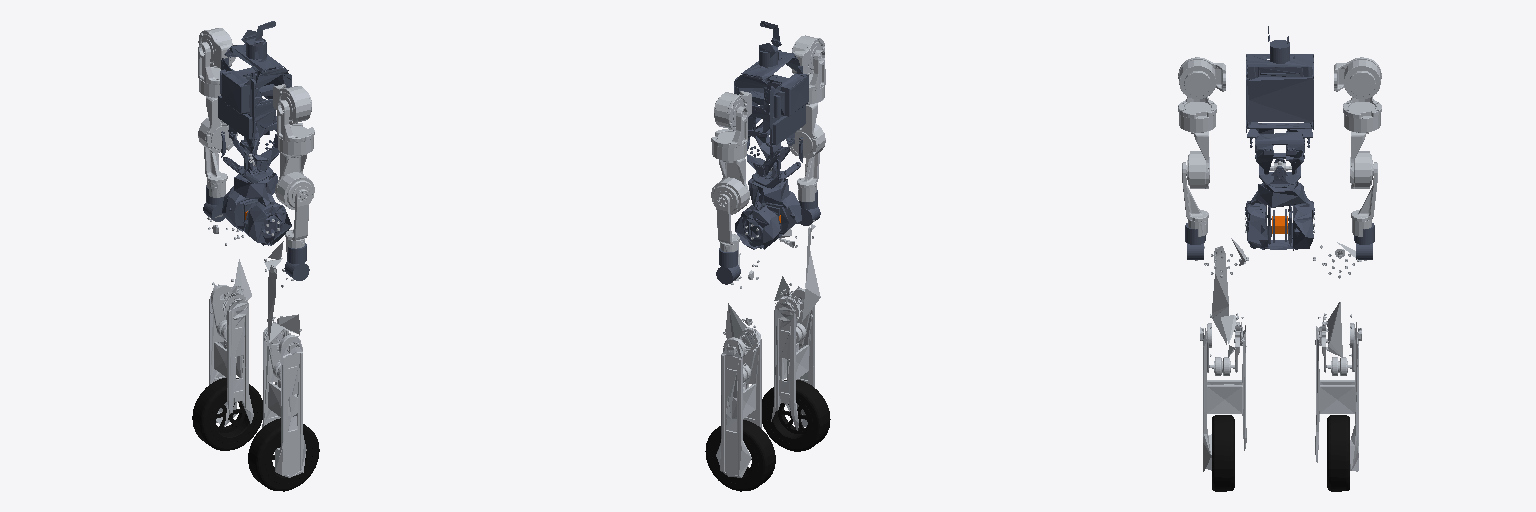
The robot description file, URDF, robot "wheel_humanoid":
<?xml version='1.0' encoding='utf-8'?>
<robot name="wheel_humanoid">
  <!-- GENERATED by tools/build_urdf.py from urdf/wheel_humanoid_structural.urdf + config/q1_wheel_components.yaml. Do not edit by hand.
     Q1 Wheel / BI2 Wheel: 40.00 kg, 24 CubeMars joints (AKE90-8 hip/knee, AK10-9 torso/shoulder/elbow/wheel, AK45-36 neck, AK45-10 wrist/gripper),
     Xsens MTi-630 on pelvis at hip-axis height, wheel radius 0.1 m, CAN 200 Hz. Joint friction/damping = 0: modelled in the Isaac Lab actuator. -->
  <material name="grey">
    <color rgba="0.75 0.77 0.80 1" />
  </material>
  <material name="dark">
    <color rgba="0.35 0.38 0.45 1" />
  </material>
  <material name="rubber">
    <color rgba="0.12 0.12 0.12 1" />
  </material>
  <material name="imu_orange">
    <color rgba="0.95 0.45 0.05 1" />
  </material>
  <link name="pelvis">
    <inertial>
      <origin xyz="6.602201e-06 1.009828e-05 -0.095563" rpy="0 0 0" />
      <mass value="5.2777" />
      <inertia ixx="0.042568" ixy="-3.336868e-06" ixz="4.443570e-06" iyy="0.021732" iyz="-2.369537e-06" izz="0.028592" />
    </inertial>
    <visual>
      <origin xyz="0 0 0" rpy="0 0 0" />
      <geometry>
        <mesh filename="../meshes/web/hip.stl" scale="1 1 1" />
      </geometry>
      <material name="dark" />
    </visual>
  </link>
  <link name="waist_yaw_link">
    <inertial>
      <origin xyz="-0.002411 1.391409e-08 0.035844" rpy="0 0 0" />
      <mass value="1.0432" />
      <inertia ixx="0.001286" ixy="4.513354e-10" ixz="-1.652677e-05" iyy="0.001102" iyz="3.781693e-10" izz="0.001132" />
    </inertial>
    <visual>
      <origin xyz="0 0 0" rpy="0 0 0" />
      <geometry>
        <mesh filename="../meshes/web/waist_yaw.stl" scale="1 1 1" />
      </geometry>
      <material name="dark" />
    </visual>
  </link>
  <link name="waist_roll_link">
    <inertial>
      <origin xyz="-3.947088e-10 -2.747308e-10 8.034476e-07" rpy="0 0 0" />
      <mass value="0.9665" />
      <inertia ixx="8.684762e-04" ixy="7.488862e-14" ixz="-2.299664e-13" iyy="0.001132" iyz="2.670902e-12" izz="8.702798e-04" />
    </inertial>
    <visual>
      <origin xyz="0 0 0" rpy="0 0 0" />
      <geometry>
        <mesh filename="../meshes/web/waist_pitch.stl" scale="1 1 1" />
      </geometry>
      <material name="grey" />
    </visual>
  </link>
  <link name="torso">
    <inertial>
      <origin xyz="-0.004774 -4.027808e-04 0.218873" rpy="0 0 0" />
      <mass value="7.0335" />
      <inertia ixx="0.094891" ixy="-1.953431e-04" ixz="-7.687369e-04" iyy="0.047838" iyz="4.550266e-05" izz="0.061561" />
    </inertial>
    <visual>
      <origin xyz="0 0 0" rpy="0 0 0" />
      <geometry>
        <mesh filename="../meshes/web/waist_should_head.stl" scale="1 1 1" />
      </geometry>
      <material name="dark" />
    </visual>
  </link>
  <link name="l_shoulder_pitch_link">
    <inertial>
      <origin xyz="-0.021587 0.073246 3.123557e-09" rpy="0 0 0" />
      <mass value="1.3483" />
      <inertia ixx="0.001717" ixy="2.023139e-05" ixz="-1.053258e-09" iyy="0.001426" iyz="1.382733e-08" izz="0.001562" />
    </inertial>
    <visual>
      <origin xyz="0 0 0" rpy="0 0 0" />
      <geometry>
        <mesh filename="../meshes/web/arm_l_link_1.stl" scale="1 1 1" />
      </geometry>
      <material name="grey" />
    </visual>
  </link>
  <link name="l_shoulder_roll_link">
    <inertial>
      <origin xyz="0.028948 -4.881052e-05 -0.129142" rpy="0 0 0" />
      <mass value="1.3666" />
      <inertia ixx="0.001897" ixy="2.651940e-06" ixz="1.419497e-04" iyy="0.001929" iyz="2.953447e-06" izz="0.001641" />
    </inertial>
    <visual>
      <origin xyz="0 0 0" rpy="0 0 0" />
      <geometry>
        <mesh filename="../meshes/web/arm_l_link_2.stl" scale="1 1 1" />
      </geometry>
      <material name="grey" />
    </visual>
  </link>
  <link name="l_shoulder_yaw_link">
    <inertial>
      <origin xyz="-2.931040e-06 0.018437 -0.114686" rpy="0 0 0" />
      <mass value="1.3939" />
      <inertia ixx="0.002235" ixy="-1.834554e-07" ixz="1.367861e-07" iyy="0.002242" iyz="2.603874e-04" izz="0.001619" />
    </inertial>
    <visual>
      <origin xyz="0 0 0" rpy="0 0 0" />
      <geometry>
        <mesh filename="../meshes/web/arm_l_link_3.stl" scale="1 1 1" />
      </geometry>
      <material name="grey" />
    </visual>
  </link>
  <link name="l_elbow_link">
    <inertial>
      <origin xyz="-5.573086e-06 -0.022445 -0.158066" rpy="0 0 0" />
      <mass value="0.4363" />
      <inertia ixx="9.758466e-04" ixy="8.432305e-09" ixz="-7.421732e-09" iyy="9.441553e-04" iyz="-1.402907e-04" izz="1.759022e-04" />
    </inertial>
    <visual>
      <origin xyz="0 0 0" rpy="0 0 0" />
      <geometry>
        <mesh filename="../meshes/web/arm_l_link_4.stl" scale="1 1 1" />
      </geometry>
      <material name="grey" />
    </visual>
  </link>
  <link name="r_shoulder_pitch_link">
    <inertial>
      <origin xyz="-0.021588 -0.073245 -1.171754e-06" rpy="0 0 0" />
      <mass value="1.3482" />
      <inertia ixx="0.001717" ixy="-2.023341e-05" ixz="-1.895726e-09" iyy="0.001426" iyz="-9.283294e-09" izz="0.001562" />
    </inertial>
    <visual>
      <origin xyz="0 0 0" rpy="0 0 0" />
      <geometry>
        <mesh filename="../meshes/web/arm_r_link_1.stl" scale="1 1 1" />
      </geometry>
      <material name="grey" />
    </visual>
  </link>
  <link name="r_shoulder_roll_link">
    <inertial>
      <origin xyz="0.028948 -4.881052e-05 -0.129142" rpy="0 0 0" />
      <mass value="1.3666" />
      <inertia ixx="0.001897" ixy="2.651940e-06" ixz="1.419497e-04" iyy="0.001929" iyz="2.953447e-06" izz="0.001641" />
    </inertial>
    <visual>
      <origin xyz="0 0 0" rpy="0 0 0" />
      <geometry>
        <mesh filename="../meshes/web/arm_r_link_2.stl" scale="1 1 1" />
      </geometry>
      <material name="grey" />
    </visual>
  </link>
  <link name="r_shoulder_yaw_link">
    <inertial>
      <origin xyz="2.931040e-06 -0.018437 -0.114686" rpy="0 0 0" />
      <mass value="1.3939" />
      <inertia ixx="0.002235" ixy="-1.834554e-07" ixz="-1.367861e-07" iyy="0.002242" iyz="-2.603874e-04" izz="0.001619" />
    </inertial>
    <visual>
      <origin xyz="0 0 0" rpy="0 0 0" />
      <geometry>
        <mesh filename="../meshes/web/arm_r_link_3.stl" scale="1 1 1" />
      </geometry>
      <material name="grey" />
    </visual>
  </link>
  <link name="r_elbow_link">
    <inertial>
      <origin xyz="5.573086e-06 0.022445 -0.158066" rpy="0 0 0" />
      <mass value="0.4363" />
      <inertia ixx="9.758466e-04" ixy="8.432305e-09" ixz="7.421732e-09" iyy="9.441553e-04" iyz="1.402907e-04" izz="1.759022e-04" />
    </inertial>
    <visual>
      <origin xyz="0 0 0" rpy="0 0 0" />
      <geometry>
        <mesh filename="../meshes/web/arm_r_link_4.stl" scale="1 1 1" />
      </geometry>
      <material name="grey" />
    </visual>
  </link>
  <link name="l_hip_pitch_link">
    <inertial>
      <origin xyz="0.019431 0.071955 -0.096192" rpy="0 0 0" />
      <mass value="1.9503" />
      <inertia ixx="0.003490" ixy="-4.210136e-05" ixz="5.661860e-05" iyy="0.002517" iyz="1.947852e-04" izz="0.002314" />
    </inertial>
    <visual>
      <origin xyz="0 0 0" rpy="0 0 0" />
      <geometry>
        <mesh filename="../meshes/web/urdf_thigh_joint_l.stl" scale="1 1 1" />
      </geometry>
      <material name="grey" />
    </visual>
  </link>
  <link name="l_thigh_link">
    <inertial>
      <origin xyz="-0.026418 -0.019593 -0.204474" rpy="0 0 0" />
      <mass value="2.2513" />
      <inertia ixx="0.007567" ixy="-4.265401e-05" ixz="-9.042540e-05" iyy="0.008692" iyz="-7.039186e-04" izz="0.002947" />
    </inertial>
    <visual>
      <origin xyz="0 0 0" rpy="0 0 0" />
      <geometry>
        <mesh filename="../meshes/web/urdf_thigh_knee_l.stl" scale="1 1 1" />
      </geometry>
      <material name="grey" />
    </visual>
  </link>
  <link name="l_shin_link">
    <inertial>
      <origin xyz="2.401575e-05 0.022555 -0.294121" rpy="0 0 0" />
      <mass value="2.0045" />
      <inertia ixx="0.022326" ixy="8.724134e-08" ixz="-5.242499e-06" iyy="0.021386" iyz="6.114595e-04" izz="0.003135" />
    </inertial>
    <visual>
      <origin xyz="0 0 0" rpy="0 0 0" />
      <geometry>
        <mesh filename="../meshes/web/lower_leg_l_w_link_1_1.stl" scale="1 1 1" />
      </geometry>
      <material name="grey" />
    </visual>
  </link>
  <link name="l_wheel_link">
    <inertial>
      <origin xyz="-1.062750e-07 0.001429 -2.961080e-18" rpy="0 0 0" />
      <mass value="1.2439" />
      <inertia ixx="0.004217" ixy="2.076277e-10" ixz="-5.007686e-09" iyy="0.007734" iyz="-7.060086e-12" izz="0.004204" />
    </inertial>
    <visual>
      <origin xyz="0 0 0" rpy="0 0 0" />
      <geometry>
        <mesh filename="../meshes/web/lower_leg_l_w_link_2.stl" scale="1 1 1" />
      </geometry>
      <material name="rubber" />
    </visual>
  </link>
  <link name="r_hip_pitch_link">
    <inertial>
      <origin xyz="0.019511 -0.067117 -0.096268" rpy="0 0 0" />
      <mass value="1.9460" />
      <inertia ixx="0.003454" ixy="3.269409e-05" ixz="5.403229e-05" iyy="0.002491" iyz="-1.743071e-04" izz="0.002287" />
    </inertial>
    <visual>
      <origin xyz="0 0 0" rpy="0 0 0" />
      <geometry>
        <mesh filename="../meshes/web/urdf_thigh_joint_r.stl" scale="1 1 1" />
      </geometry>
      <material name="grey" />
    </visual>
  </link>
  <link name="r_thigh_link">
    <inertial>
      <origin xyz="-0.026454 0.019494 -0.204462" rpy="0 0 0" />
      <mass value="2.2562" />
      <inertia ixx="0.007567" ixy="3.387573e-05" ixz="-9.175773e-05" iyy="0.008703" iyz="7.087533e-04" izz="0.002976" />
    </inertial>
    <visual>
      <origin xyz="0 0 0" rpy="0 0 0" />
      <geometry>
        <mesh filename="../meshes/web/urdf_thigh_knee_r.stl" scale="1 1 1" />
      </geometry>
      <material name="grey" />
    </visual>
  </link>
  <link name="r_shin_link">
    <inertial>
      <origin xyz="-2.401575e-05 -0.022555 -0.294121" rpy="0 0 0" />
      <mass value="2.0045" />
      <inertia ixx="0.022326" ixy="8.724134e-08" ixz="5.242499e-06" iyy="0.021386" iyz="-6.114595e-04" izz="0.003135" />
    </inertial>
    <visual>
      <origin xyz="0 0 0" rpy="0 0 0" />
      <geometry>
        <mesh filename="../meshes/web/lower_leg_r_w_link_1_1.stl" scale="1 1 1" />
      </geometry>
      <material name="grey" />
    </visual>
  </link>
  <link name="r_wheel_link">
    <inertial>
      <origin xyz="1.062750e-07 -0.001429 -2.961080e-18" rpy="0 0 0" />
      <mass value="1.2439" />
      <inertia ixx="0.004217" ixy="2.076277e-10" ixz="5.007686e-09" iyy="0.007734" iyz="7.060086e-12" izz="0.004204" />
    </inertial>
    <visual>
      <origin xyz="0 0 0" rpy="0 0 0" />
      <geometry>
        <mesh filename="../meshes/web/lower_leg_r_w_link_2.stl" scale="1 1 1" />
      </geometry>
      <material name="rubber" />
    </visual>
  </link>
  <link name="l_knee_roller_link">
    <inertial>
      <origin xyz="-6.112440e-05 0.047586 -0.052859" rpy="0 0 0" />
      <mass value="0.1597" />
      <inertia ixx="4.277488e-04" ixy="1.898842e-07" ixz="4.001363e-08" iyy="3.302339e-04" iyz="-1.710638e-05" izz="1.691798e-04" />
    </inertial>
    <visual>
      <origin xyz="0 0 0" rpy="0 0 0" />
      <geometry>
        <mesh filename="../meshes/web/lower_leg_l_w_link_1_2.stl" scale="1 1 1" />
      </geometry>
      <material name="grey" />
    </visual>
  </link>
  <link name="r_knee_roller_link">
    <inertial>
      <origin xyz="6.112440e-05 -0.047586 -0.052859" rpy="0 0 0" />
      <mass value="0.1597" />
      <inertia ixx="4.277488e-04" ixy="1.898842e-07" ixz="-4.001363e-08" iyy="3.302339e-04" iyz="1.710638e-05" izz="1.691798e-04" />
    </inertial>
    <visual>
      <origin xyz="0 0 0" rpy="0 0 0" />
      <geometry>
        <mesh filename="../meshes/web/lower_leg_r_w_link_1_2.stl" scale="1 1 1" />
      </geometry>
      <material name="grey" />
    </visual>
  </link>
  <joint name="waist_yaw_joint" type="revolute">
    <parent link="pelvis" />
    <child link="waist_yaw_link" />
    <origin xyz="0 0 0" rpy="0 0 0" />
    <axis xyz="0 0 1" />
    <limit lower="-1.57" upper="1.57" effort="43.0" velocity="33.51" />
    <dynamics damping="0.0" friction="0.0" />
  </joint>
  <joint name="waist_roll_joint" type="revolute">
    <parent link="waist_yaw_link" />
    <child link="waist_roll_link" />
    <origin xyz="0 0 0.0378" rpy="0 0 0" />
    <axis xyz="1 0 0" />
    <limit lower="-0.35" upper="0.35" effort="43.0" velocity="33.51" />
    <dynamics damping="0.0" friction="0.0" />
  </joint>
  <joint name="waist_pitch_joint" type="revolute">
    <parent link="waist_roll_link" />
    <child link="torso" />
    <origin xyz="0 0 0" rpy="0 0 0" />
    <axis xyz="0 1 0" />
    <limit lower="-0.52" upper="0.52" effort="43.0" velocity="33.51" />
    <dynamics damping="0.0" friction="0.0" />
  </joint>
  <joint name="l_shoulder_pitch_joint" type="revolute">
    <parent link="torso" />
    <child link="l_shoulder_pitch_link" />
    <origin xyz="0 0.1405 0.256" rpy="0 0 0" />
    <axis xyz="0 1 0" />
    <limit lower="-3.14" upper="3.14" effort="43.0" velocity="33.51" />
    <dynamics damping="0.0" friction="0.0" />
  </joint>
  <joint name="l_shoulder_roll_joint" type="revolute">
    <parent link="l_shoulder_pitch_link" />
    <child link="l_shoulder_roll_link" />
    <origin xyz="-0.03019 0.075 0" rpy="0 0 0" />
    <axis xyz="1 0 0" />
    <limit lower="-0.2" upper="2.6" effort="43.0" velocity="33.51" />
    <dynamics damping="0.0" friction="0.0" />
  </joint>
  <joint name="l_shoulder_yaw_joint" type="revolute">
    <parent link="l_shoulder_roll_link" />
    <child link="l_shoulder_yaw_link" />
    <origin xyz="0.03012 0 -0.1417" rpy="0 0 0" />
    <axis xyz="0 0 1" />
    <limit lower="-1.57" upper="1.57" effort="43.0" velocity="33.51" />
    <dynamics damping="0.0" friction="0.0" />
  </joint>
  <joint name="l_elbow_joint" type="revolute">
    <parent link="l_shoulder_yaw_link" />
    <child link="l_elbow_link" />
    <origin xyz="0 0.03 -0.12" rpy="0 0 0" />
    <axis xyz="0 1 0" />
    <limit lower="-2.5" upper="0.2" effort="43.0" velocity="33.51" />
    <dynamics damping="0.0" friction="0.0" />
  </joint>
  <joint name="r_shoulder_pitch_joint" type="revolute">
    <parent link="torso" />
    <child link="r_shoulder_pitch_link" />
    <origin xyz="0 -0.1405 0.256" rpy="0 0 0" />
    <axis xyz="0 1 0" />
    <limit lower="-3.14" upper="3.14" effort="43.0" velocity="33.51" />
    <dynamics damping="0.0" friction="0.0" />
  </joint>
  <joint name="r_shoulder_roll_joint" type="revolute">
    <parent link="r_shoulder_pitch_link" />
    <child link="r_shoulder_roll_link" />
    <origin xyz="-0.03019 -0.075 0" rpy="0 0 0" />
    <axis xyz="1 0 0" />
    <limit lower="-2.6" upper="0.2" effort="43.0" velocity="33.51" />
    <dynamics damping="0.0" friction="0.0" />
  </joint>
  <joint name="r_shoulder_yaw_joint" type="revolute">
    <parent link="r_shoulder_roll_link" />
    <child link="r_shoulder_yaw_link" />
    <origin xyz="0.03012 0 -0.1417" rpy="0 0 0" />
    <axis xyz="0 0 1" />
    <limit lower="-1.57" upper="1.57" effort="43.0" velocity="33.51" />
    <dynamics damping="0.0" friction="0.0" />
  </joint>
  <joint name="r_elbow_joint" type="revolute">
    <parent link="r_shoulder_yaw_link" />
    <child link="r_elbow_link" />
    <origin xyz="0 -0.03 -0.12" rpy="0 0 0" />
    <axis xyz="0 1 0" />
    <limit lower="-2.5" upper="0.2" effort="43.0" velocity="33.51" />
    <dynamics damping="0.0" friction="0.0" />
  </joint>
  <joint name="l_hip_pitch_joint" type="revolute">
    <parent link="pelvis" />
    <child link="l_hip_pitch_link" />
    <origin xyz="0 0.084 -0.1267" rpy="0 0 0" />
    <axis xyz="0 1 0" />
    <limit lower="-1.8" upper="1.2" effort="121.0" velocity="21.991" />
    <dynamics damping="0.0" friction="0.0" />
  </joint>
  <joint name="l_hip_roll_joint" type="revolute">
    <parent link="l_hip_pitch_link" />
    <child link="l_thigh_link" />
    <origin xyz="0.027 0.073 -0.098" rpy="0 0 0" />
    <axis xyz="1 0 0" />
    <limit lower="-0.35" upper="0.8" effort="121.0" velocity="21.991" />
    <dynamics damping="0.0" friction="0.0" />
  </joint>
  <joint name="l_knee_joint" type="revolute">
    <parent link="l_thigh_link" />
    <child link="l_shin_link" />
    <origin xyz="-0.027 -0.03 -0.222" rpy="0 0 0" />
    <axis xyz="0 1 0" />
    <limit lower="-0.2" upper="2.6" effort="121.0" velocity="21.991" />
    <dynamics damping="0.0" friction="0.0" />
  </joint>
  <joint name="l_wheel_joint" type="continuous">
    <parent link="l_shin_link" />
    <child link="l_wheel_link" />
    <origin xyz="0 0.026 -0.34" rpy="0 0 0" />
    <axis xyz="0 1 0" />
    <limit effort="43.0" velocity="33.51" />
    <dynamics damping="0.0" friction="0.0" />
  </joint>
  <joint name="r_hip_pitch_joint" type="revolute">
    <parent link="pelvis" />
    <child link="r_hip_pitch_link" />
    <origin xyz="0 -0.084 -0.1267" rpy="0 0 0" />
    <axis xyz="0 1 0" />
    <limit lower="-1.8" upper="1.2" effort="121.0" velocity="21.991" />
    <dynamics damping="0.0" friction="0.0" />
  </joint>
  <joint name="r_hip_roll_joint" type="revolute">
    <parent link="r_hip_pitch_link" />
    <child link="r_thigh_link" />
    <origin xyz="0.027 -0.068 -0.098" rpy="0 0 0" />
    <axis xyz="1 0 0" />
    <limit lower="-0.8" upper="0.35" effort="121.0" velocity="21.991" />
    <dynamics damping="0.0" friction="0.0" />
  </joint>
  <joint name="r_knee_joint" type="revolute">
    <parent link="r_thigh_link" />
    <child link="r_shin_link" />
    <origin xyz="-0.027 0.03 -0.222" rpy="0 0 0" />
    <axis xyz="0 1 0" />
    <limit lower="-0.2" upper="2.6" effort="121.0" velocity="21.991" />
    <dynamics damping="0.0" friction="0.0" />
  </joint>
  <joint name="r_wheel_joint" type="continuous">
    <parent link="r_shin_link" />
    <child link="r_wheel_link" />
    <origin xyz="0 -0.026 -0.34" rpy="0 0 0" />
    <axis xyz="0 1 0" />
    <limit effort="43.0" velocity="33.51" />
    <dynamics damping="0.0" friction="0.0" />
  </joint>
  <joint name="l_knee_roller_joint" type="revolute">
    <parent link="l_thigh_link" />
    <child link="l_knee_roller_link" />
    <origin xyz="-0.027 -0.0476 -0.222" rpy="0 0 0" />
    <axis xyz="0 1 0" />
    <limit lower="-0.1" upper="1.2" effort="60" velocity="12" />
    <mimic joint="l_knee_joint" multiplier="0.444444" offset="0.0" />
    <dynamics damping="0.1" friction="0.0" />
  </joint>
  <joint name="r_knee_roller_joint" type="revolute">
    <parent link="r_thigh_link" />
    <child link="r_knee_roller_link" />
    <origin xyz="-0.027 0.0471 -0.222" rpy="0 0 0" />
    <axis xyz="0 1 0" />
    <limit lower="-0.1" upper="1.2" effort="60" velocity="12" />
    <mimic joint="r_knee_joint" multiplier="0.444444" offset="0.0" />
    <dynamics damping="0.1" friction="0.0" />
  </joint>
  <link name="head_link">
    <inertial>
      <origin xyz="0 0 0" rpy="0 0 0" />
      <mass value="0.1500" />
      <inertia ixx="6.826250e-05" ixy="0" ixz="0" iyy="6.826250e-05" iyz="0" izz="5.671875e-05" />
    </inertial>
    <visual>
      <origin xyz="0 0 0" rpy="0 0 0" />
      <geometry>
        <cylinder radius="0.0275" length="0.0565" />
      </geometry>
      <material name="dark" />
    </visual>
  </link>
  <joint name="neck_joint" type="revolute">
    <parent link="torso" />
    <child link="head_link" />
    <origin xyz="0.0 0.0 0.33" rpy="0.0 0.0 0.0" />
    <axis xyz="0.0 0.0 1.0" />
    <limit lower="-1.57" upper="1.57" effort="24.0" velocity="5.445" />
    <dynamics damping="0.0" friction="0.0" />
  </joint>
  <link name="l_wrist_link">
    <inertial>
      <origin xyz="0.000000e+00 0.000000e+00 -0.034293" rpy="0 0 0" />
      <mass value="0.3820" />
      <inertia ixx="3.378608e-04" ixy="0.000000e+00" ixz="0.000000e+00" iyy="3.392518e-04" iyz="0.000000e+00" izz="1.327387e-04" />
    </inertial>
    <visual>
      <origin xyz="0 0 0" rpy="0 0 0" />
      <geometry>
        <cylinder radius="0.0265" length="0.0452" />
      </geometry>
      <material name="dark" />
    </visual>
  </link>
  <joint name="l_wrist_joint" type="revolute">
    <parent link="l_elbow_link" />
    <child link="l_wrist_link" />
    <origin xyz="0.0 -0.0241 -0.1822" rpy="0.0 0.0 0.0" />
    <axis xyz="0.0 0.0 1.0" />
    <limit lower="-1.57" upper="1.57" effort="7.0" velocity="18.85" />
    <dynamics damping="0.0" friction="0.0" />
  </joint>
  <link name="l_gripper_link">
    <inertial>
      <origin xyz="0 0 0" rpy="0 0 0" />
      <mass value="0.2000" />
      <inertia ixx="6.916317e-05" ixy="0" ixz="0" iyy="7.022500e-05" iyz="0" izz="6.916317e-05" />
    </inertial>
    <visual>
      <origin xyz="0 0 0" rpy="1.5708 0 0" />
      <geometry>
        <cylinder radius="0.0265" length="0.0452" />
      </geometry>
      <material name="dark" />
    </visual>
  </link>
  <joint name="l_gripper_joint" type="revolute">
    <parent link="l_wrist_link" />
    <child link="l_gripper_link" />
    <origin xyz="0.0 0.0 -0.05" rpy="0.0 0.0 0.0" />
    <axis xyz="0.0 1.0 0.0" />
    <limit lower="0.0" upper="1.0" effort="7.0" velocity="18.85" />
    <dynamics damping="0.0" friction="0.0" />
  </joint>
  <link name="r_wrist_link">
    <inertial>
      <origin xyz="0.000000e+00 0.000000e+00 -0.034293" rpy="0 0 0" />
      <mass value="0.3820" />
      <inertia ixx="3.378608e-04" ixy="0.000000e+00" ixz="0.000000e+00" iyy="3.392518e-04" iyz="0.000000e+00" izz="1.327387e-04" />
    </inertial>
    <visual>
      <origin xyz="0 0 0" rpy="0 0 0" />
      <geometry>
        <cylinder radius="0.0265" length="0.0452" />
      </geometry>
      <material name="dark" />
    </visual>
  </link>
  <joint name="r_wrist_joint" type="revolute">
    <parent link="r_elbow_link" />
    <child link="r_wrist_link" />
    <origin xyz="0.0 0.0241 -0.1822" rpy="0.0 0.0 0.0" />
    <axis xyz="0.0 0.0 1.0" />
    <limit lower="-1.57" upper="1.57" effort="7.0" velocity="18.85" />
    <dynamics damping="0.0" friction="0.0" />
  </joint>
  <link name="r_gripper_link">
    <inertial>
      <origin xyz="0 0 0" rpy="0 0 0" />
      <mass value="0.2000" />
      <inertia ixx="6.916317e-05" ixy="0" ixz="0" iyy="7.022500e-05" iyz="0" izz="6.916317e-05" />
    </inertial>
    <visual>
      <origin xyz="0 0 0" rpy="1.5708 0 0" />
      <geometry>
        <cylinder radius="0.0265" length="0.0452" />
      </geometry>
      <material name="dark" />
    </visual>
  </link>
  <joint name="r_gripper_joint" type="revolute">
    <parent link="r_wrist_link" />
    <child link="r_gripper_link" />
    <origin xyz="0.0 0.0 -0.05" rpy="0.0 0.0 0.0" />
    <axis xyz="0.0 1.0 0.0" />
    <limit lower="0.0" upper="1.0" effort="7.0" velocity="18.85" />
    <dynamics damping="0.0" friction="0.0" />
  </joint>
  <link name="imu_link">
    <inertial>
      <origin xyz="0 0 0" rpy="0 0 0" />
      <mass value="0.0550" />
      <inertia ixx="1.048447e-05" ixy="0" ixz="0" iyy="1.760115e-05" iyz="0" izz="2.298015e-05" />
    </inertial>
    <visual>
      <origin xyz="0 0 0" rpy="0 0 0" />
      <geometry>
        <box size="0.0573 0.0416 0.0236" />
      </geometry>
      <material name="imu_orange" />
    </visual>
  </link>
  <joint name="imu_joint" type="fixed">
    <parent link="pelvis" />
    <child link="imu_link" />
    <origin xyz="0.0 0.0 -0.1267" rpy="0.0 0.0 0.0" />
  </joint>
</robot>

--- What the picture shows (computed from the rendered views, not written in the file) ---
3 views of the same robot in one strip: view 1: azimuth 30°, elevation 25°; view 2: azimuth 150°, elevation 25°; view 3: azimuth 270°, elevation 25° (orthographic).
Robot: wheel_humanoid — 28 links, 27 joints (24 revolute, 2 continuous, 1 fixed); root link pelvis; default pose: every joint at zero.
Links seen in each view (by area): view 1: torso, r_shin_link, l_shin_link, pelvis, l_wheel_link, r_wheel_link, r_shoulder_yaw_link, r_shoulder_roll_link, l_shoulder_yaw_link, r_shoulder_pitch_link, r_thigh_link, l_shoulder_roll_link (+5 smaller); view 2: torso, l_shin_link, r_shin_link, r_wheel_link, pelvis, l_wheel_link, l_shoulder_yaw_link, l_shoulder_roll_link, r_shoulder_yaw_link, r_thigh_link, l_shoulder_pitch_link, l_elbow_link (+6 smaller); view 3: torso, pelvis, l_shin_link, r_shin_link, l_wheel_link, r_wheel_link, r_shoulder_pitch_link, l_shoulder_pitch_link, r_thigh_link, l_shoulder_roll_link, r_shoulder_roll_link, l_shoulder_yaw_link (+7 smaller).
Boxes of the visible links, x1,y1,x2,y2 form: torso: [218, 21, 291, 173]; r_shin_link: [262, 327, 306, 477]; l_shin_link: [209, 284, 253, 426]; pelvis: [222, 172, 291, 245]; l_wheel_link: [192, 378, 262, 450]; r_wheel_link: [248, 418, 319, 491]; r_shoulder_yaw_link: [275, 152, 314, 209]; r_shoulder_roll_link: [277, 100, 314, 155]; l_shoulder_yaw_link: [198, 96, 237, 153]; r_shoulder_pitch_link: [273, 84, 311, 124]; r_thigh_link: [265, 265, 301, 363]; l_shoulder_roll_link: [198, 42, 234, 97]; torso: [734, 21, 808, 178]; l_shin_link: [716, 328, 761, 477]; r_shin_link: [771, 286, 814, 430]; r_wheel_link: [762, 380, 830, 451]; pelvis: [735, 178, 801, 249]; l_wheel_link: [705, 420, 775, 491]; l_shoulder_yaw_link: [711, 158, 749, 214]; l_shoulder_roll_link: [711, 106, 747, 160]; r_shoulder_yaw_link: [788, 103, 825, 158]; r_thigh_link: [774, 227, 820, 321]; l_shoulder_pitch_link: [714, 91, 751, 130]; l_elbow_link: [716, 194, 739, 256]; torso: [1246, 26, 1313, 174]; pelvis: [1245, 182, 1314, 250]; l_shin_link: [1315, 322, 1361, 471]; r_shin_link: [1200, 325, 1246, 471]; l_wheel_link: [1327, 415, 1349, 491]; r_wheel_link: [1212, 415, 1234, 491]; r_shoulder_pitch_link: [1178, 57, 1225, 98]; l_shoulder_pitch_link: [1334, 57, 1381, 98]; r_thigh_link: [1210, 246, 1243, 357]; l_shoulder_roll_link: [1343, 97, 1381, 132]; r_shoulder_roll_link: [1178, 97, 1216, 132]; l_shoulder_yaw_link: [1350, 131, 1373, 188].
Size in the robot's own frame: 0.2 by 0.534 by 1.35 metres.
Meshes: 22 distinct files referenced, 22 mesh visuals loaded (22 binary STL).
